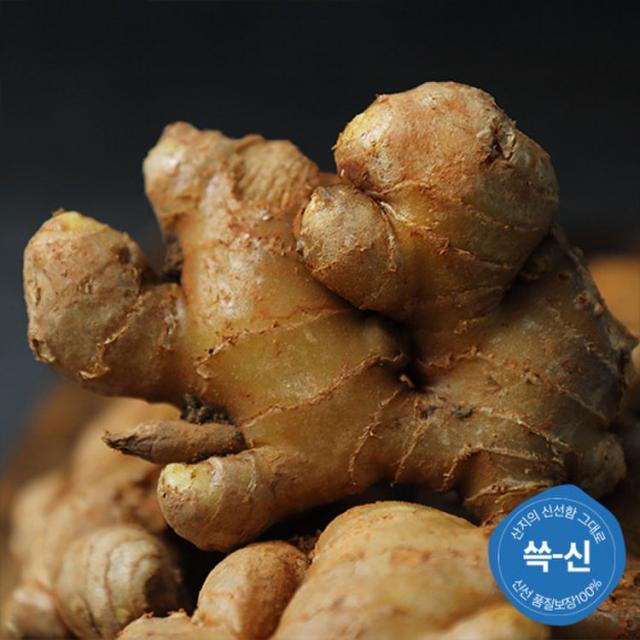ginger: (17, 97, 638, 497)
